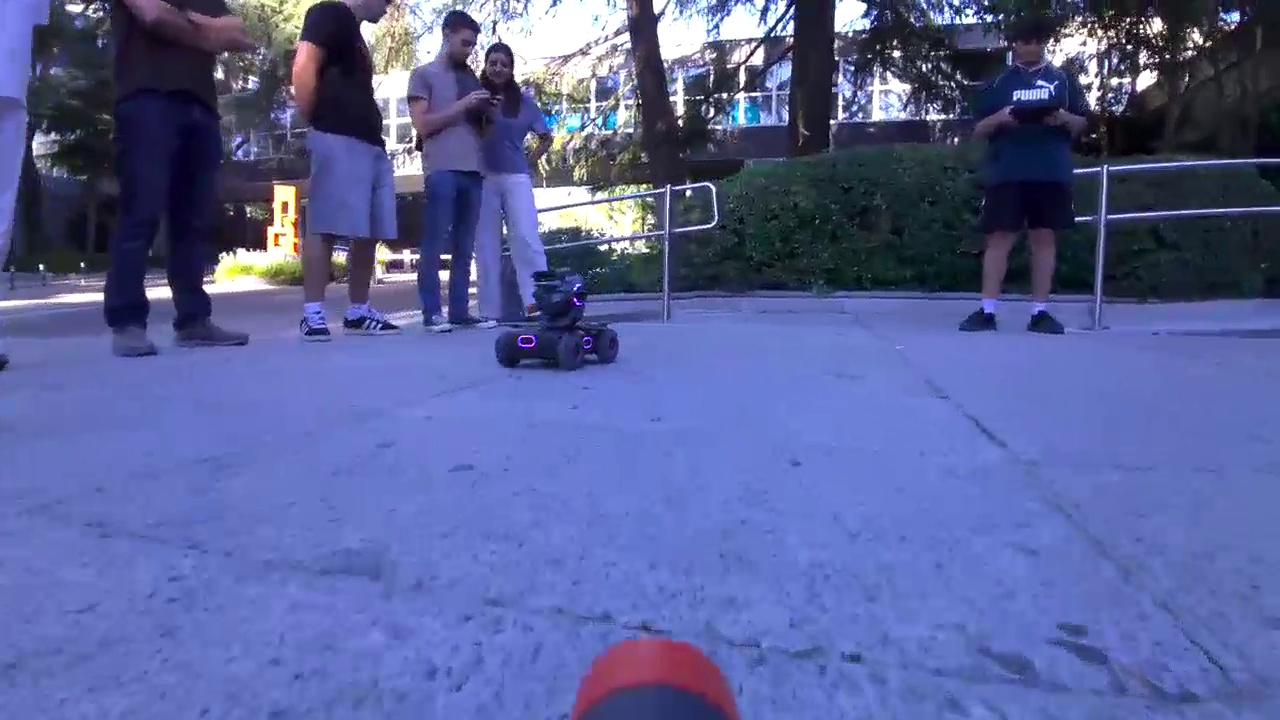robot: (494, 268, 621, 372)
